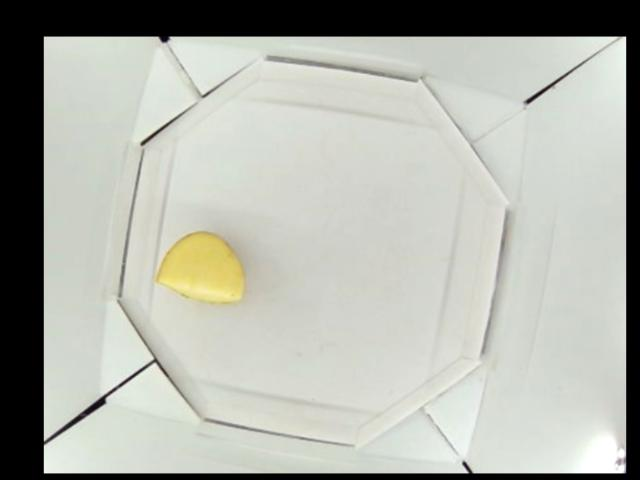Potato: (157, 231, 243, 302)
